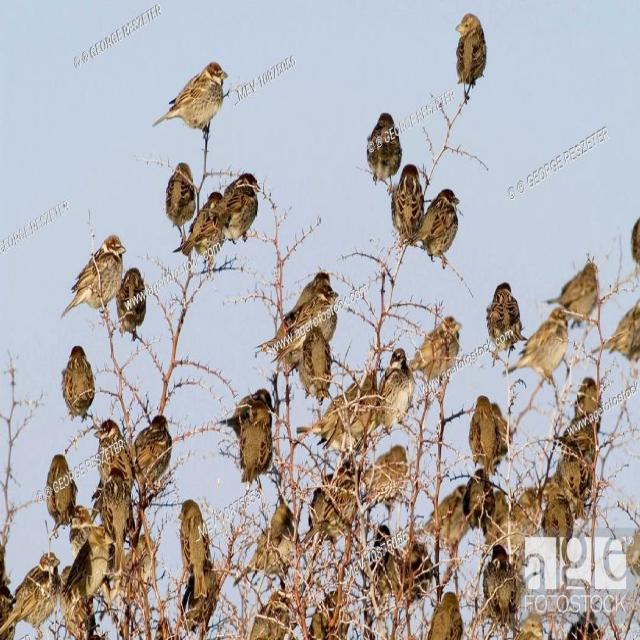bird: (151, 59, 236, 150), (220, 393, 284, 492), (58, 231, 126, 310), (473, 538, 524, 635), (462, 395, 514, 481), (413, 185, 465, 268), (448, 12, 494, 104), (212, 169, 262, 244), (363, 112, 408, 192), (58, 344, 101, 423), (485, 280, 526, 362), (44, 453, 83, 535), (463, 474, 509, 536)
